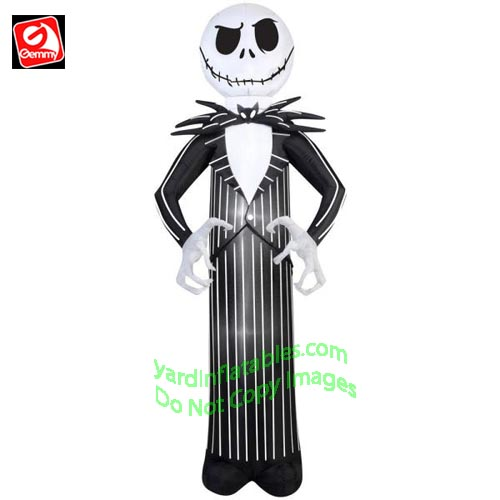Jack Skellington: (153, 15, 349, 497)
